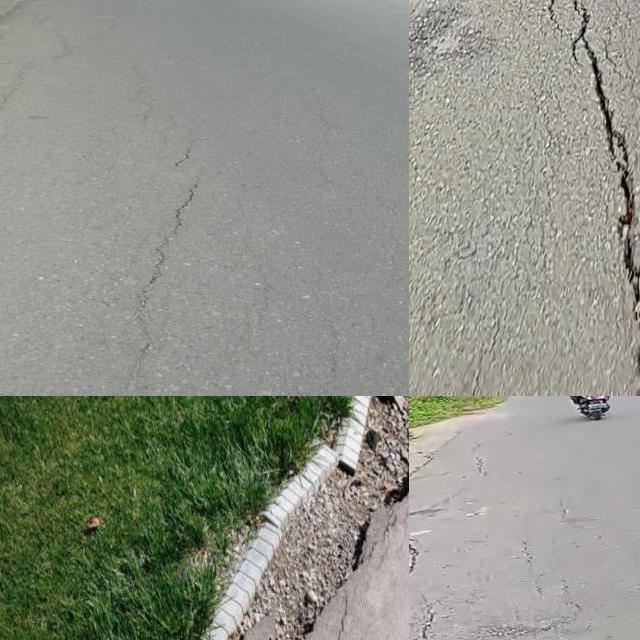Memanjang: (562, 0, 640, 396), (121, 132, 213, 367)
Pinggir: (167, 396, 409, 640)
